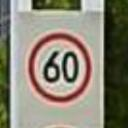speed_limit_60: (26, 32, 91, 104)
